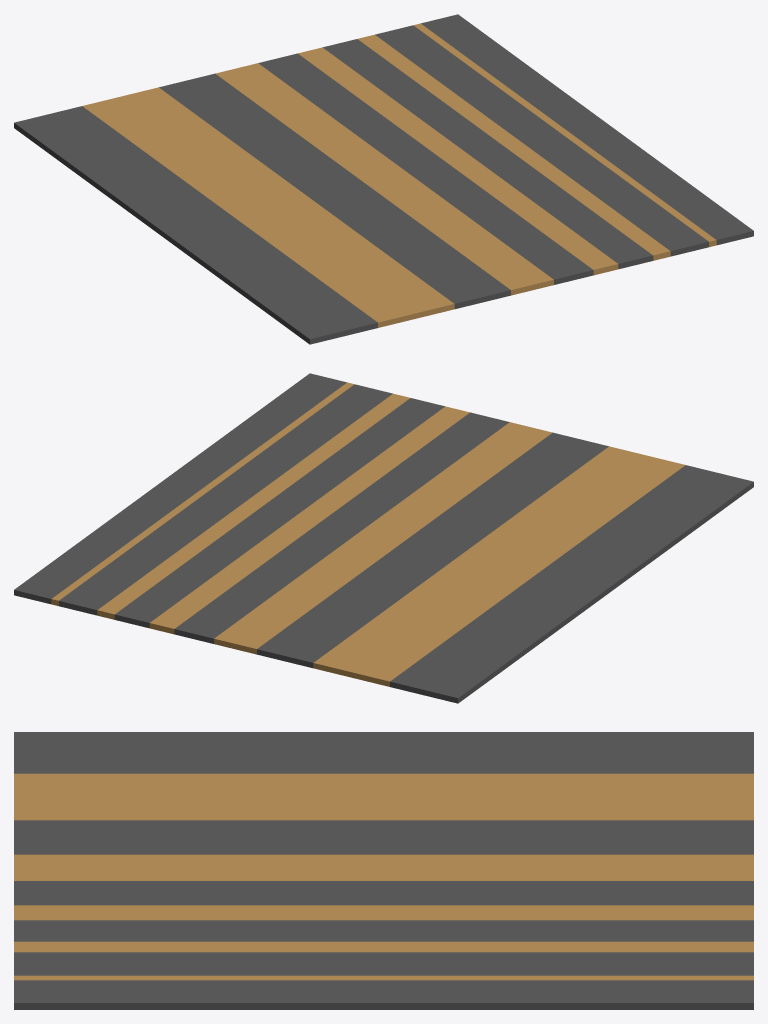
The model's file is grand_tapis.fbx.
3 views of the same model, one above another, from view 1: azimuth 30°, elevation 25°; view 2: azimuth 150°, elevation 25°; view 3: azimuth 270°, elevation 25° (orthographic). The views are drawn at different scales.
Parts seen in each view (by area): view 1: pCube12; view 2: pCube12; view 3: pCube12.
Boxes of the visible parts, left/top/right/bottom form: pCube12: left=14, top=14, right=753, bottom=344; pCube12: left=14, top=373, right=753, bottom=703; pCube12: left=14, top=732, right=753, bottom=1009.
Bounding box in the file's own units: 8.52 × 0.1001 × 9.84.
